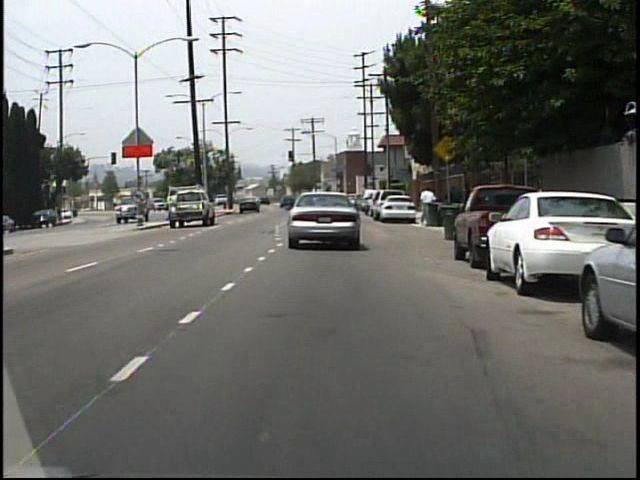person: (419, 186, 437, 206)
